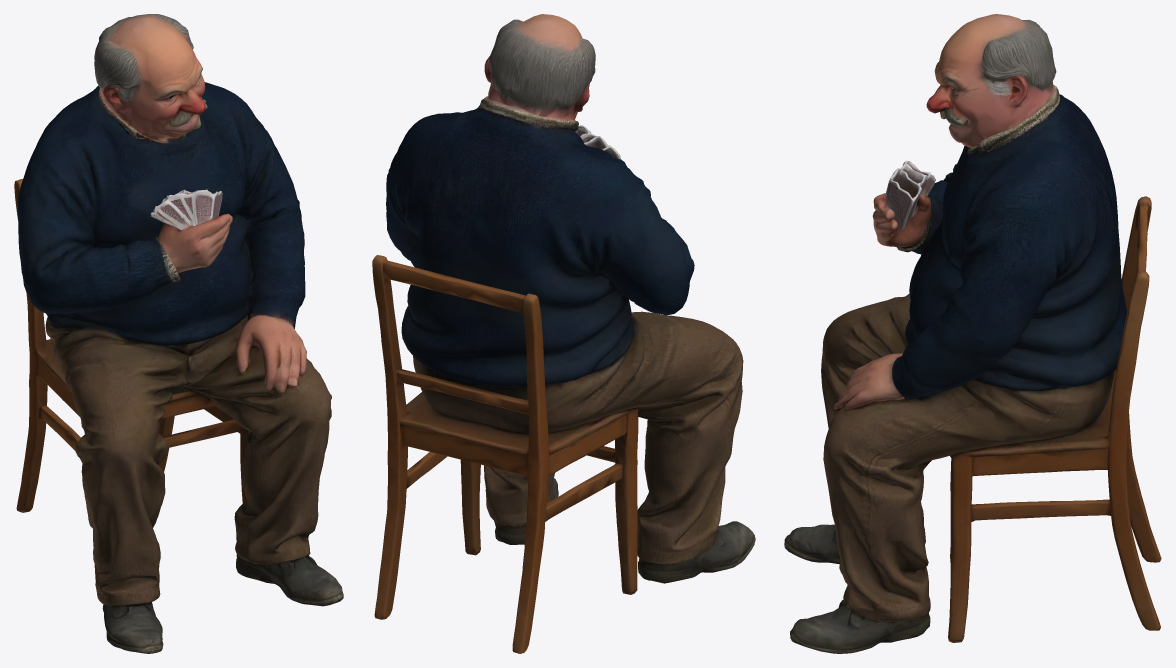
The model's file is fero.glb.
The picture shows the model from 3 angles, left to right: view 1: azimuth 30°, elevation 25°; view 2: azimuth 150°, elevation 25°; view 3: azimuth 270°, elevation 25°; orthographic projection. The views are drawn at different scales.
Parts seen in each view (by area): view 1: tripo_node_c3d26404-5ce8-4080-91b7-3df81e3334f3; view 2: tripo_node_c3d26404-5ce8-4080-91b7-3df81e3334f3; view 3: tripo_node_c3d26404-5ce8-4080-91b7-3df81e3334f3.
Part boxes in pixels (left/top/right/bottom): tripo_node_c3d26404-5ce8-4080-91b7-3df81e3334f3: left=14, top=14, right=343, bottom=653; tripo_node_c3d26404-5ce8-4080-91b7-3df81e3334f3: left=372, top=14, right=755, bottom=653; tripo_node_c3d26404-5ce8-4080-91b7-3df81e3334f3: left=784, top=14, right=1161, bottom=653.
Bounding box in the file's own units: 0.6881 × 1.3 × 0.7622.
Materials: 1 (1 with a texture image).
